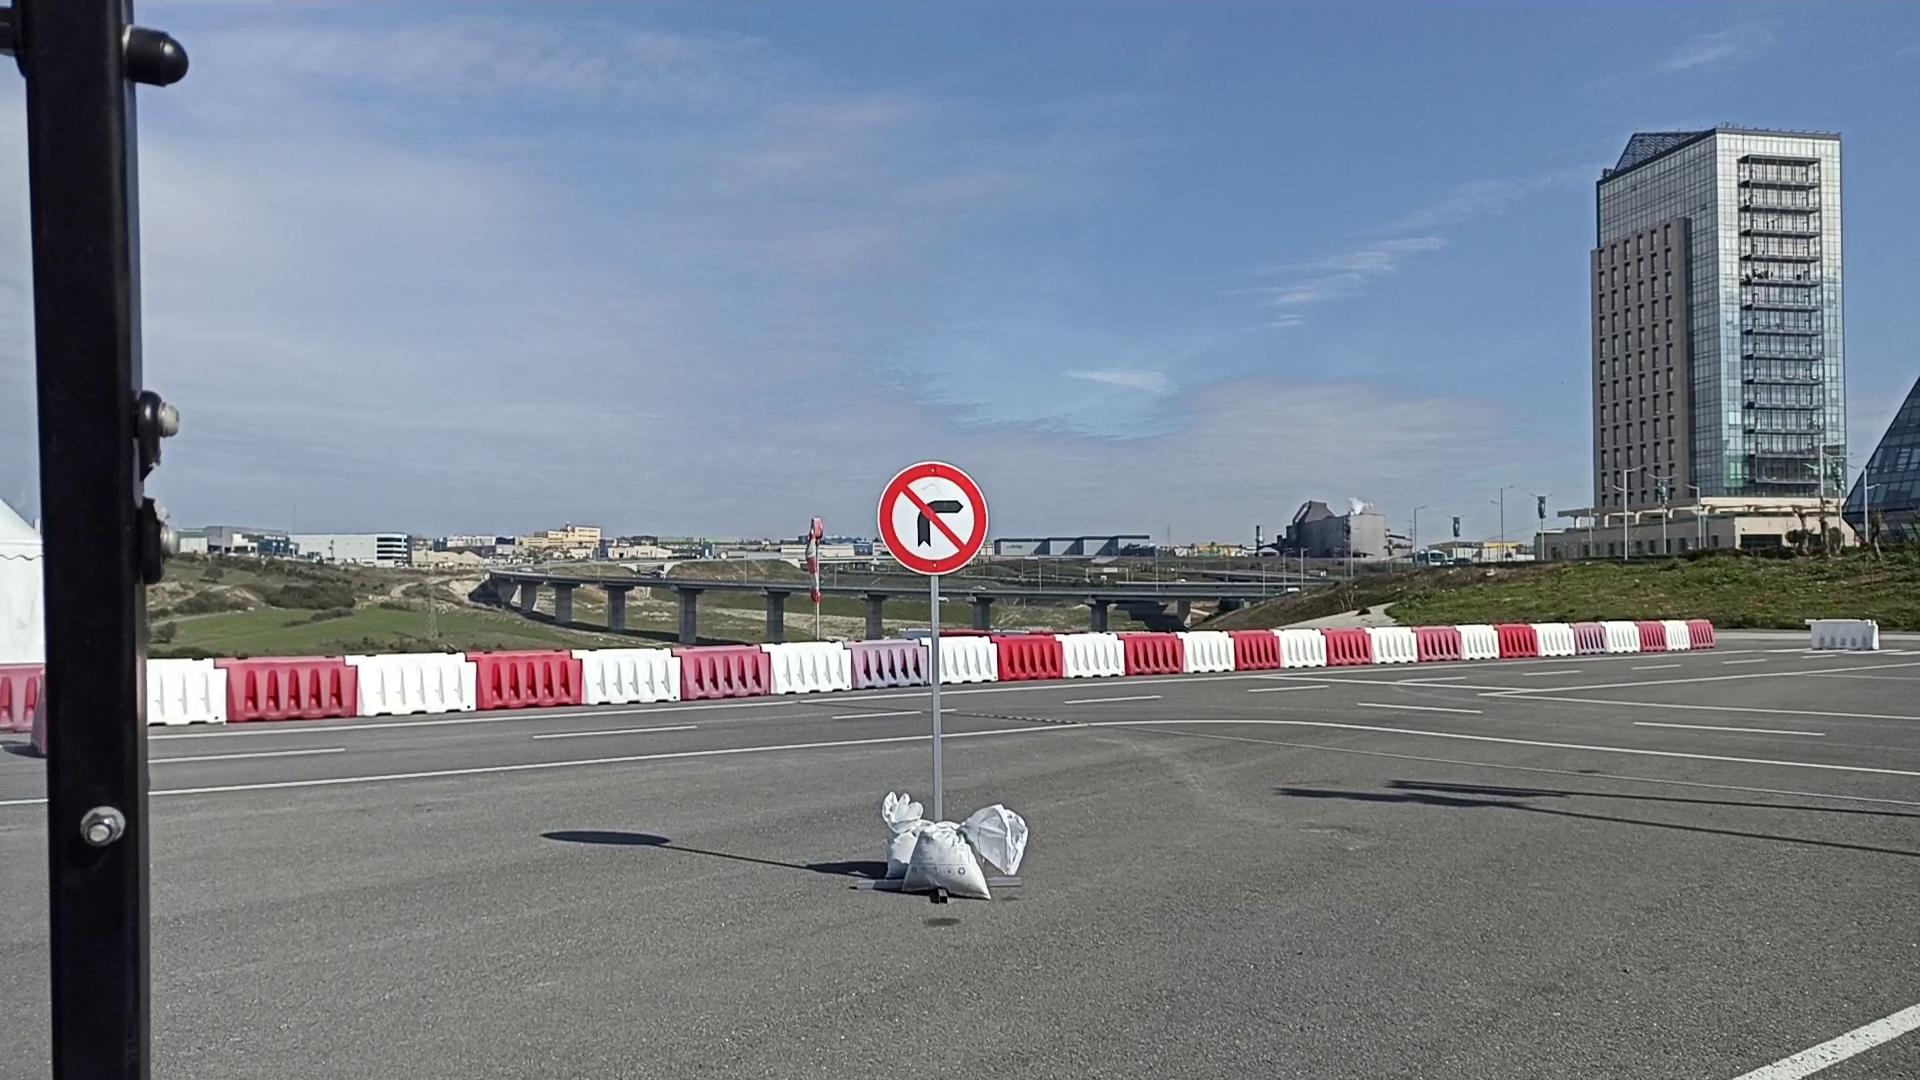noleftturn: (876, 458, 989, 578)
